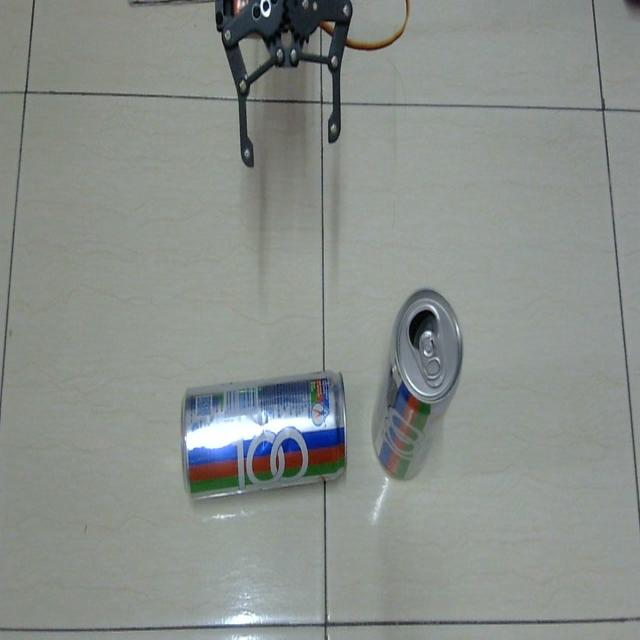Metal-laydown_90-rotation: (182, 372, 350, 512)
Metal-stand-rotation: (369, 283, 465, 489)
